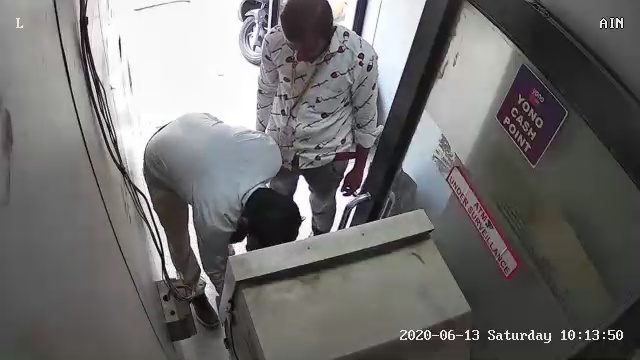open: (343, 3, 635, 355)
